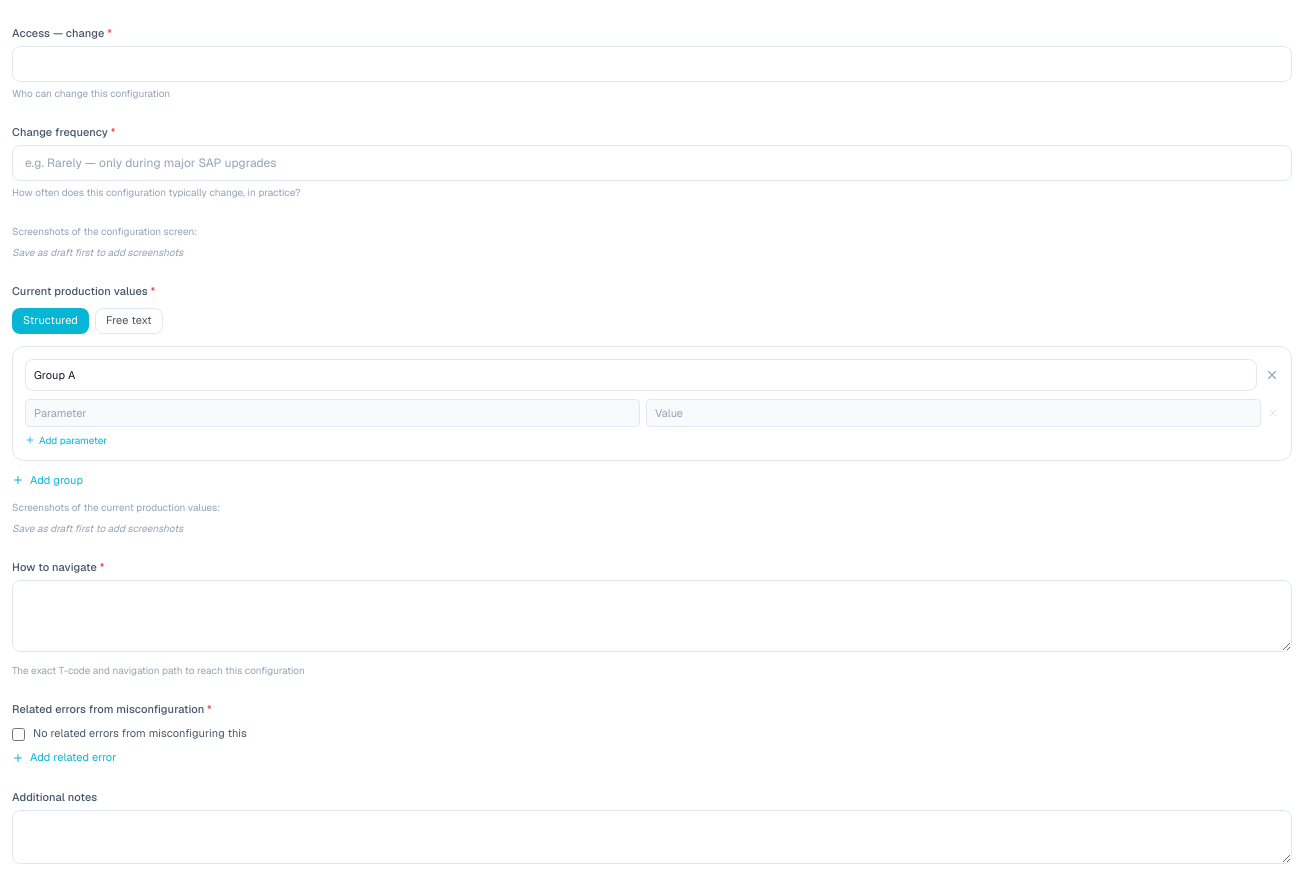
Scenario: ConfigFormFields › adds a parameter group in structured mode
(page scrolled)
Click the button "Add group".
click(48, 480)  # box x1=12 y1=472 x2=83 y2=488
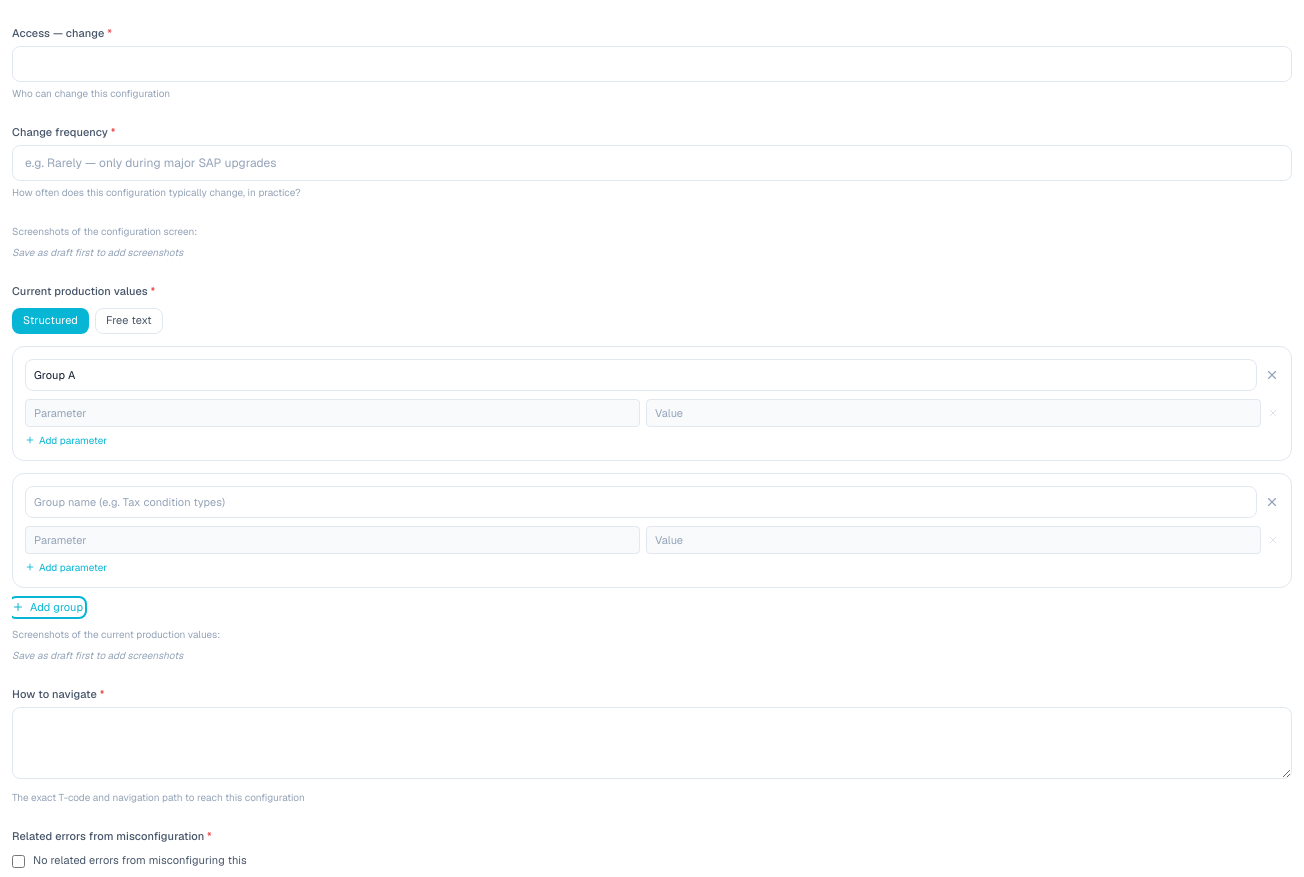
Check: the number of fields with placeholder "Group name (e.g. Tax condition types)" is 2, box x1=25 y1=358 x2=1257 y2=390; x1=25 y1=486 x2=1257 y2=518
